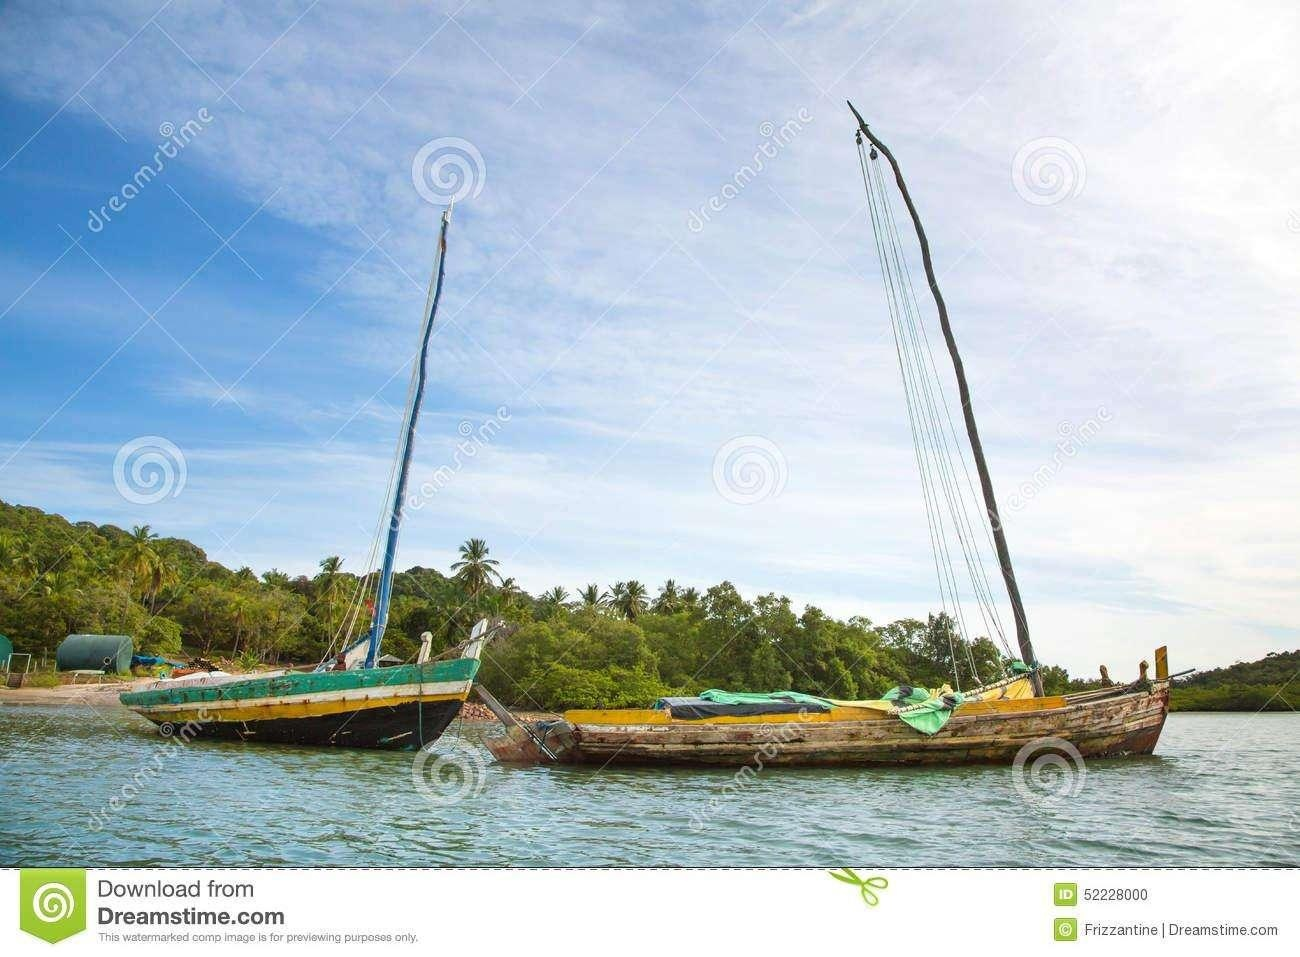otherboat: (517, 637, 1185, 767), (113, 627, 505, 740)
